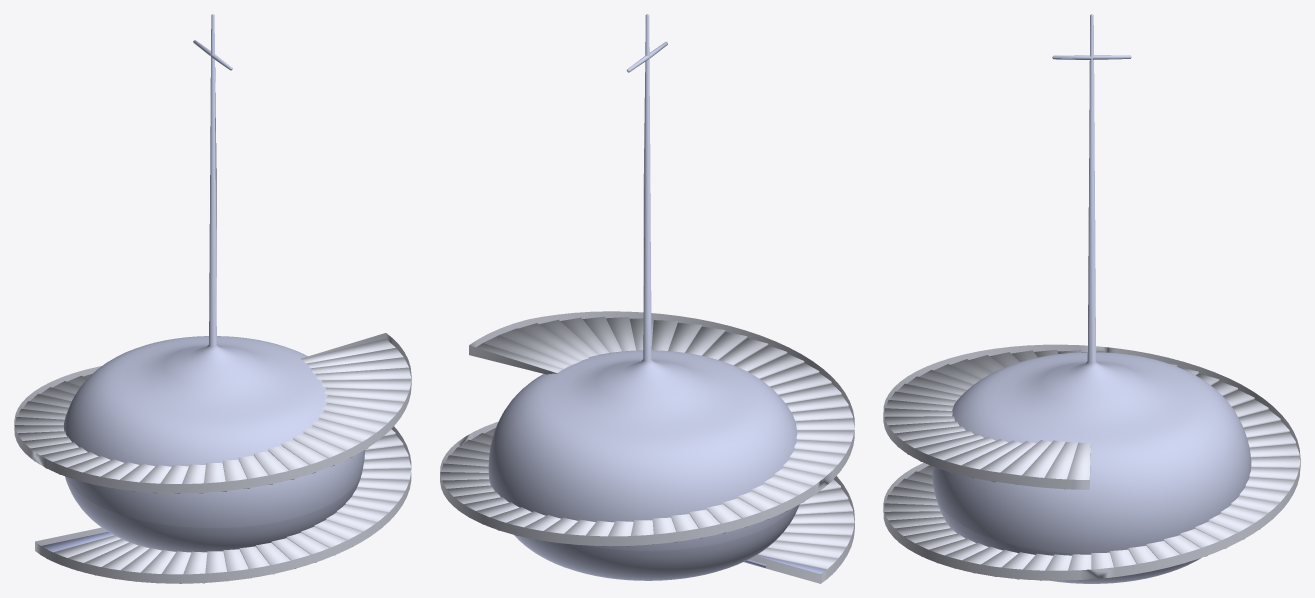
File: ChurchWithStairs.fbx
3 renders of one model, left to right at view 1: azimuth 30°, elevation 25°; view 2: azimuth 150°, elevation 25°; view 3: azimuth 270°, elevation 25°, orthographic. The views are drawn at different scales.
Parts seen in each view (by area): view 1: Shape_IndexedFaceSet; view 2: Shape_IndexedFaceSet; view 3: Shape_IndexedFaceSet.
Boxes of the visible parts, x1,y1,x2,y2 form: Shape_IndexedFaceSet: [14, 14, 411, 583]; Shape_IndexedFaceSet: [440, 14, 854, 583]; Shape_IndexedFaceSet: [883, 14, 1300, 583].
Size of the model in its own units: 10135 by 14058 by 10132.
